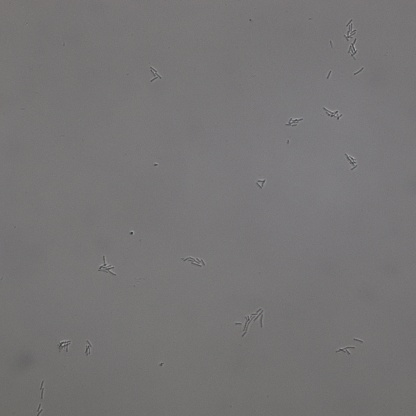R(colony): (235, 307, 265, 338), (97, 254, 116, 277), (181, 256, 207, 267), (345, 19, 356, 40), (348, 41, 359, 62), (284, 116, 303, 128), (56, 339, 72, 353), (324, 109, 344, 120), (346, 152, 357, 170), (149, 67, 162, 82), (336, 347, 355, 355), (84, 341, 93, 355), (257, 179, 266, 190)
